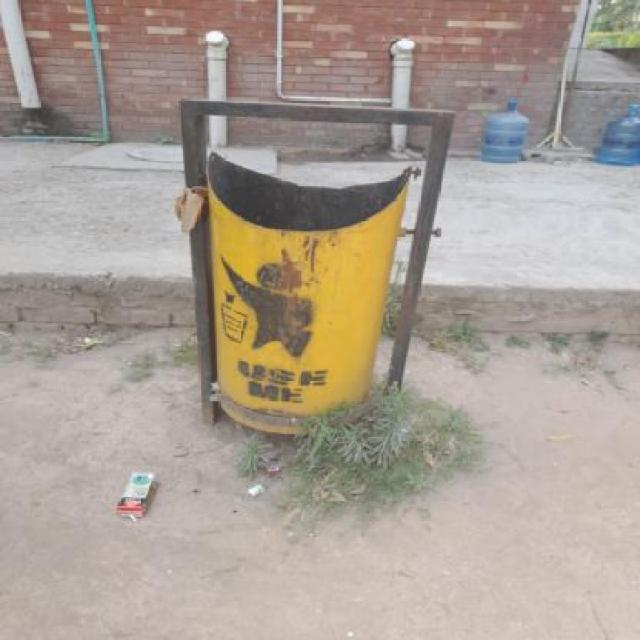garbage: (102, 460, 174, 524), (242, 460, 306, 514)
